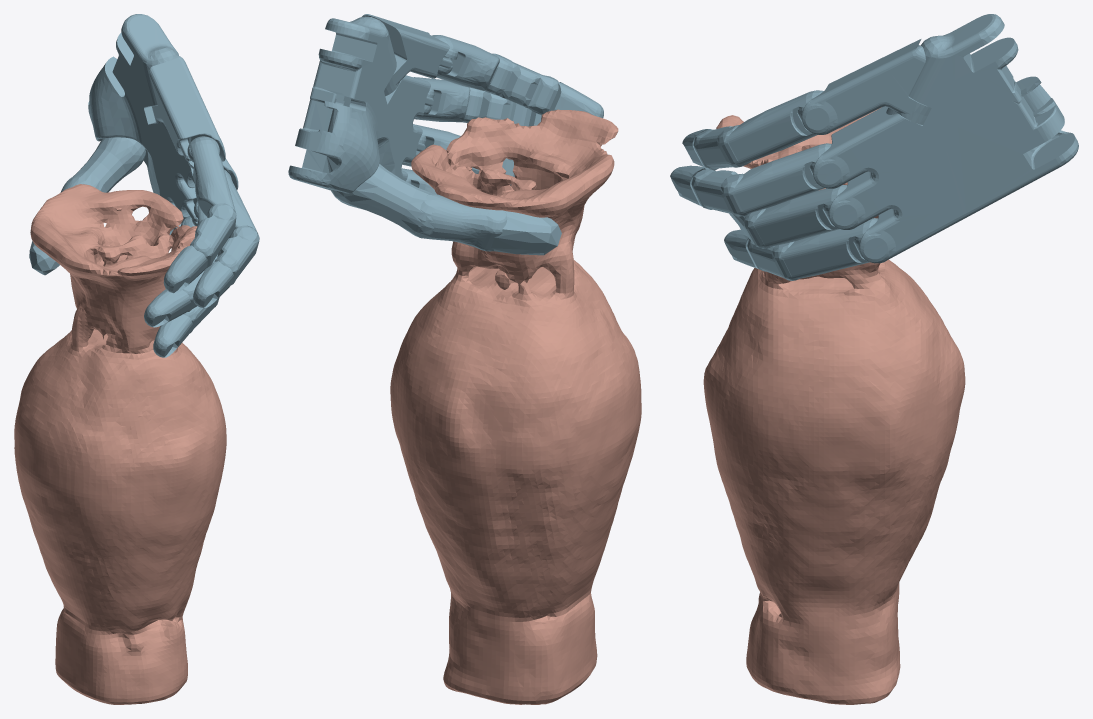
File: 8_joint.glb
The picture shows the model from 3 angles, left to right: view 1: azimuth 30°, elevation 25°; view 2: azimuth 150°, elevation 25°; view 3: azimuth 270°, elevation 25°; orthographic projection. The views are drawn at different scales.
Visible parts, largest first — view 1: world; view 2: world; view 3: world.
Boxes of the visible parts, bbox=[...] form: world: bbox=[14, 14, 259, 704]; world: bbox=[288, 14, 641, 704]; world: bbox=[670, 14, 1078, 704].
Bounding box in the file's own units: 0.8437 × 2.41 × 1.26.
